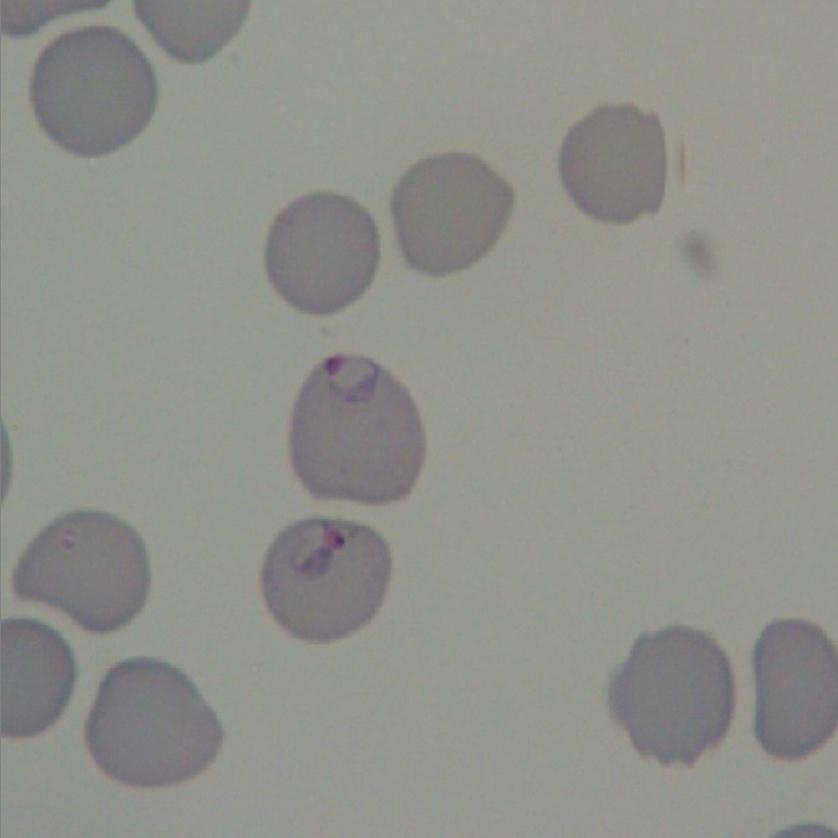Infected: (414, 333, 543, 485), (438, 187, 577, 321)
Uninfected: (102, 73, 225, 214), (620, 47, 747, 181), (690, 207, 821, 329), (680, 683, 807, 804), (324, 559, 446, 681), (458, 525, 573, 646), (172, 611, 282, 735), (0, 77, 83, 218), (762, 97, 838, 221)
